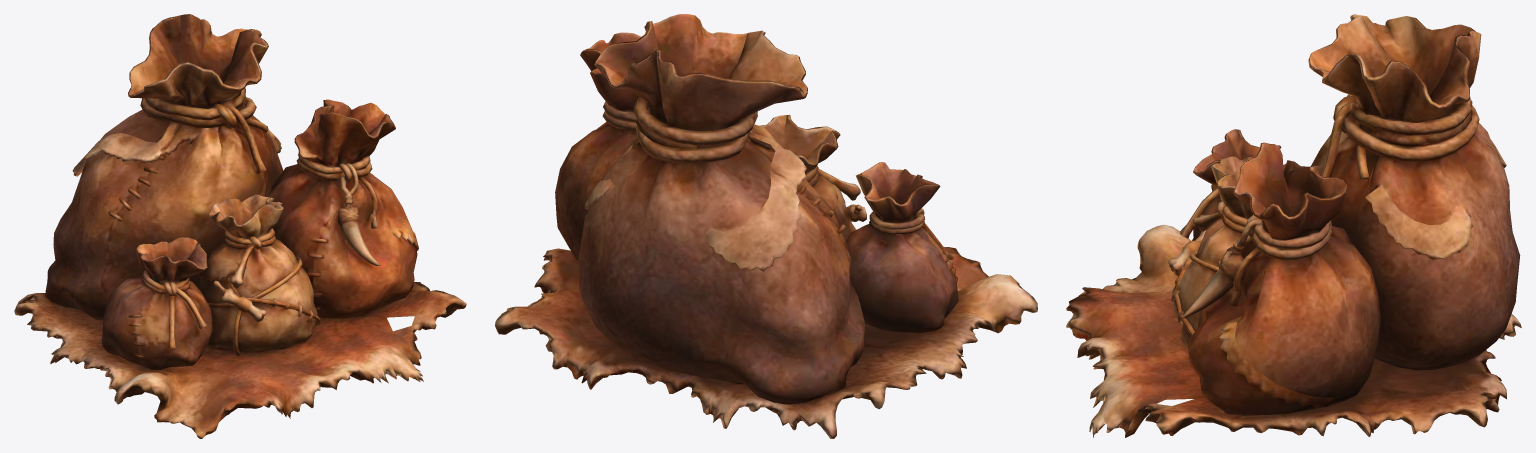
The model's file is inventory-t1.glb.
3 views of the same model, side by side, from view 1: azimuth 30°, elevation 25°; view 2: azimuth 150°, elevation 25°; view 3: azimuth 270°, elevation 25° (orthographic). The views are drawn at different scales.
Visible parts, largest first — view 1: tripo_node_a3b95443-ac23-4a1d-af49-940693dcbf14; view 2: tripo_node_a3b95443-ac23-4a1d-af49-940693dcbf14; view 3: tripo_node_a3b95443-ac23-4a1d-af49-940693dcbf14.
Part boxes in pixels (box(x1,y1,x2,y2)): tripo_node_a3b95443-ac23-4a1d-af49-940693dcbf14: box(14, 14, 466, 438); tripo_node_a3b95443-ac23-4a1d-af49-940693dcbf14: box(495, 14, 1037, 438); tripo_node_a3b95443-ac23-4a1d-af49-940693dcbf14: box(1066, 14, 1521, 437).
Bounding box in the file's own units: 0.9995 × 0.7739 × 0.9039.
1 material, 1 textured.
